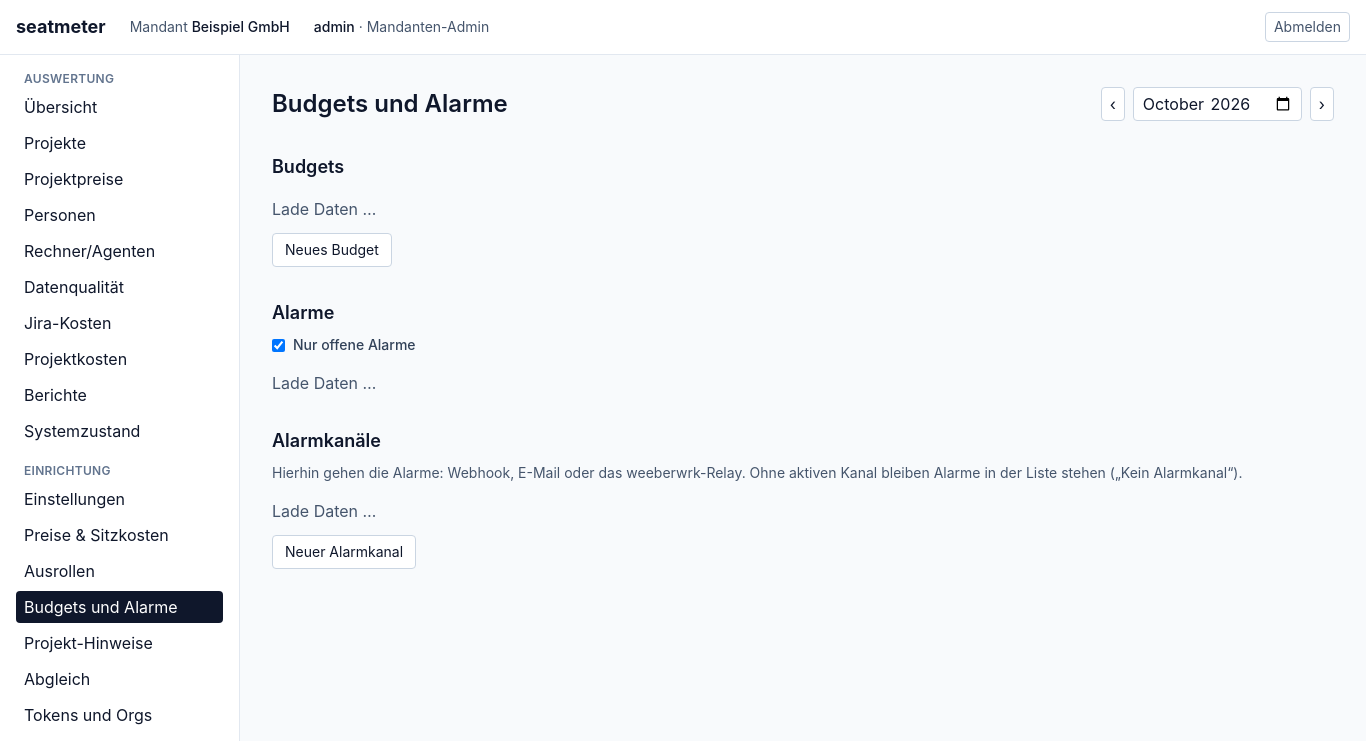
Scenario: Budgets: anlegen, bearbeiten, löschen › sendet für mandantenweit projekt_id null und die Standard-Schwellen (POST mit CSRF)
Step 1. Click the button "Neues Budget" → (332, 250), box [272,233,392,267]
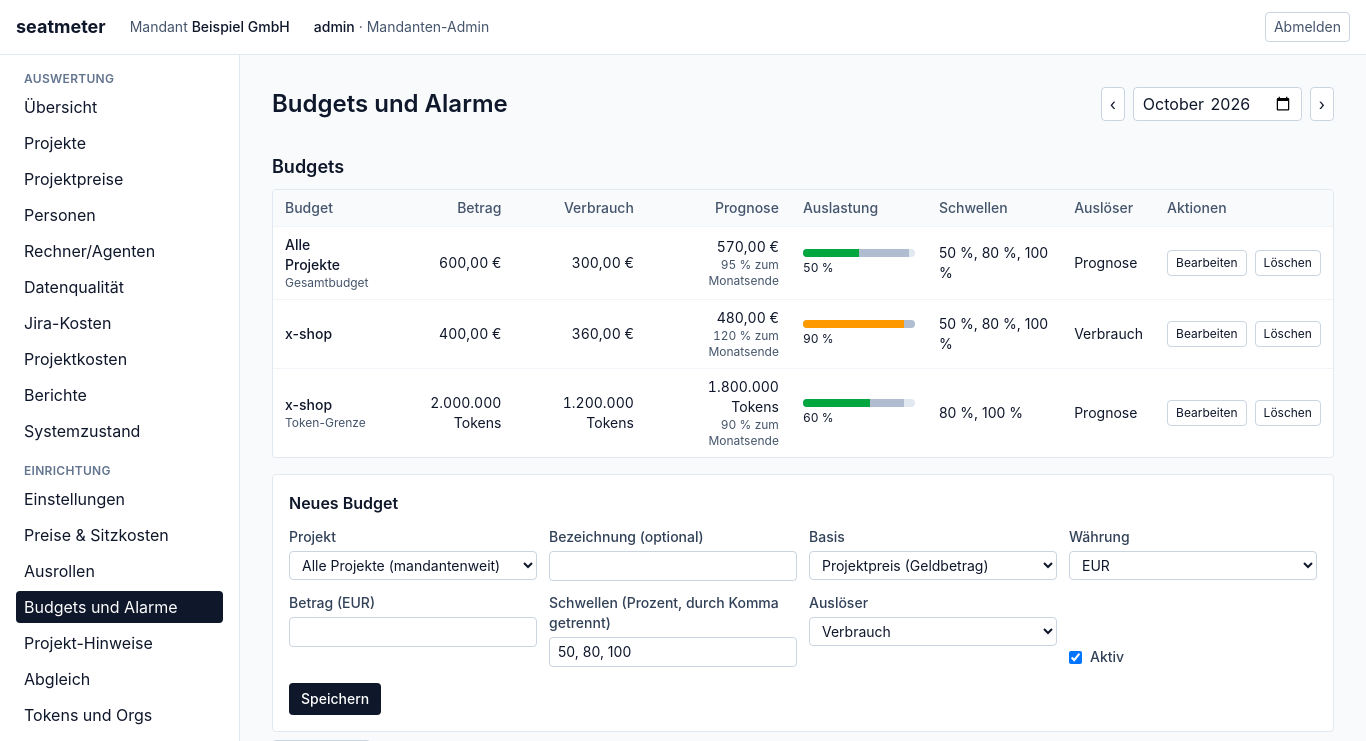
Step 2. Type "600" into the field labelled "Betrag (EUR)" → (413, 632), box [289,617,537,647]
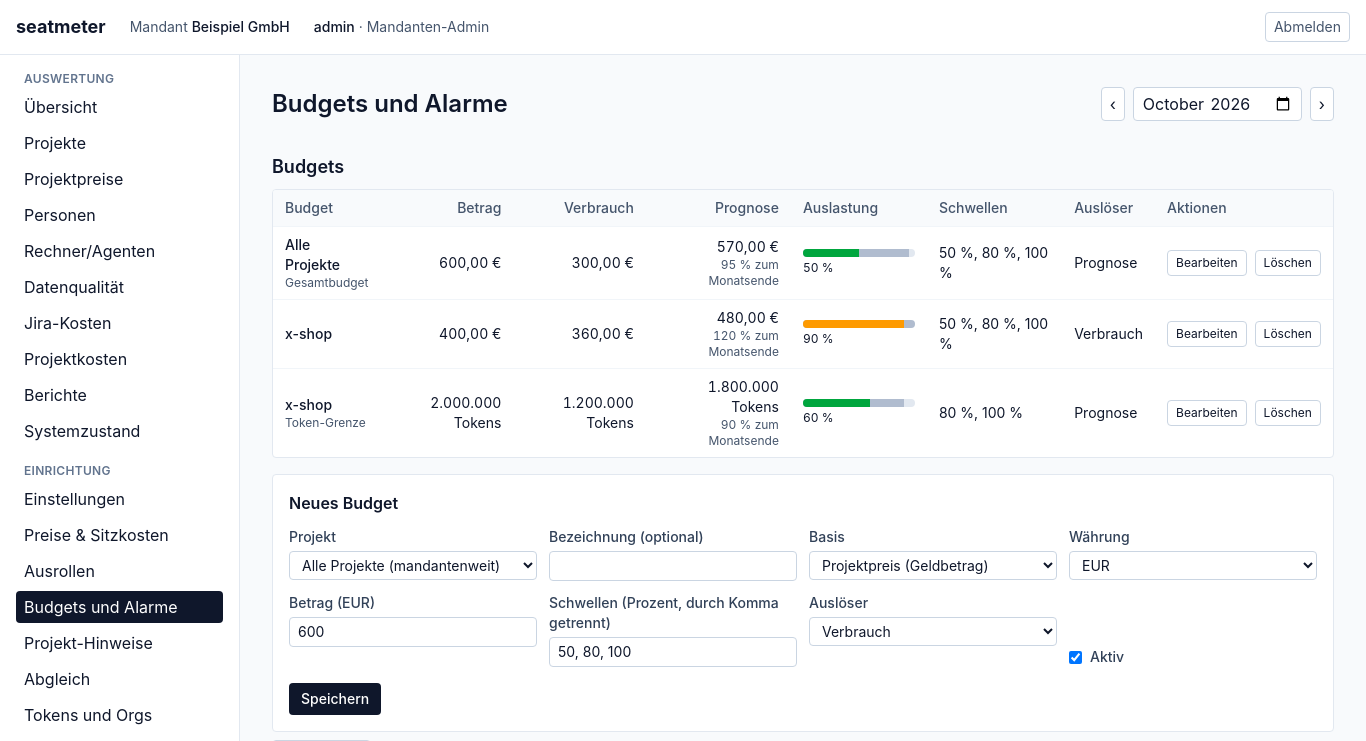
Step 3. Click the button "Speichern" → (335, 699), box [289,683,381,715]
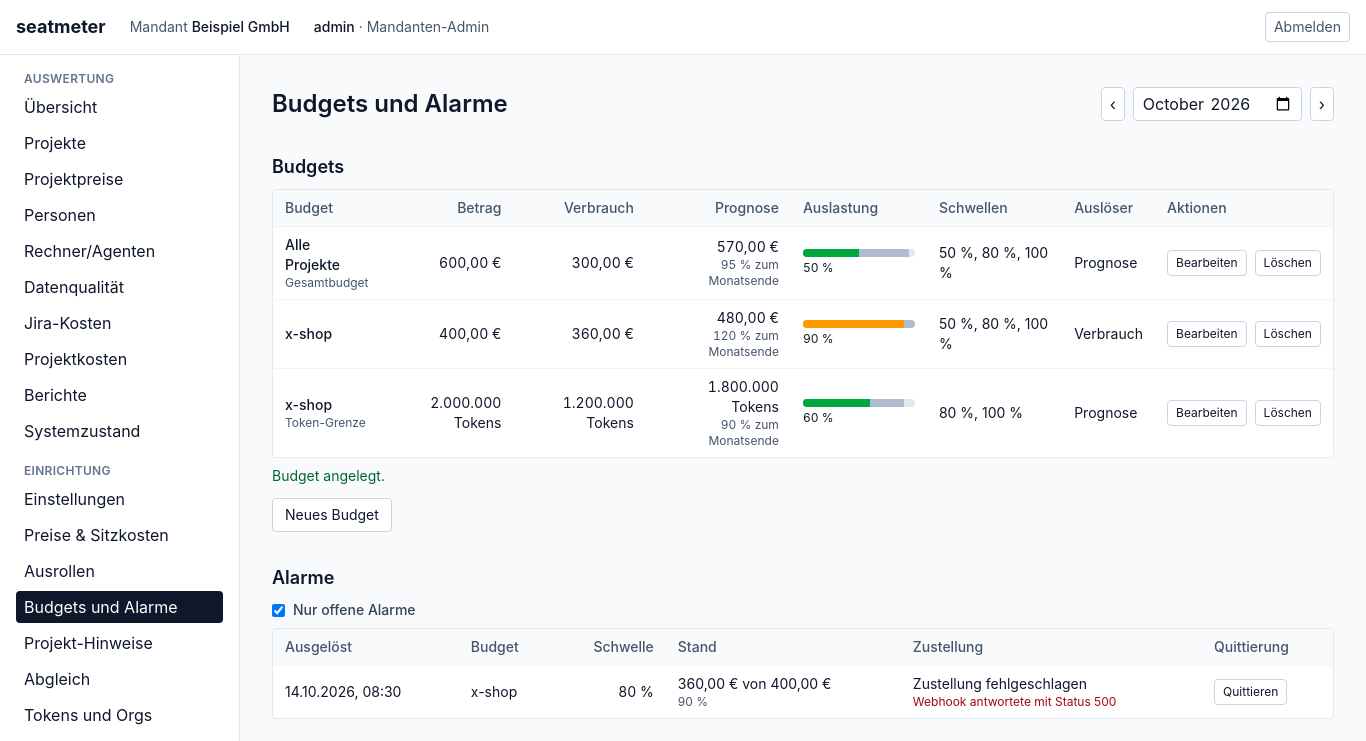
Now the text "Budget angelegt." is shown, box [272,467,385,484]
